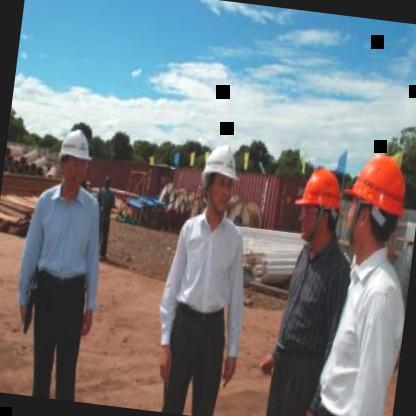helmet: (342, 150, 414, 262), (291, 162, 344, 250), (197, 136, 242, 219), (53, 118, 96, 196)
